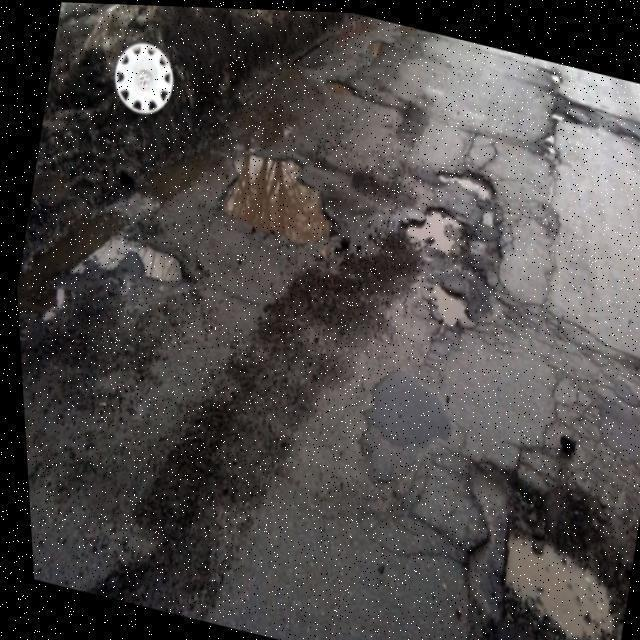Pothole: (14, 118, 213, 347), (461, 459, 632, 639), (396, 167, 505, 328), (217, 146, 344, 266)
